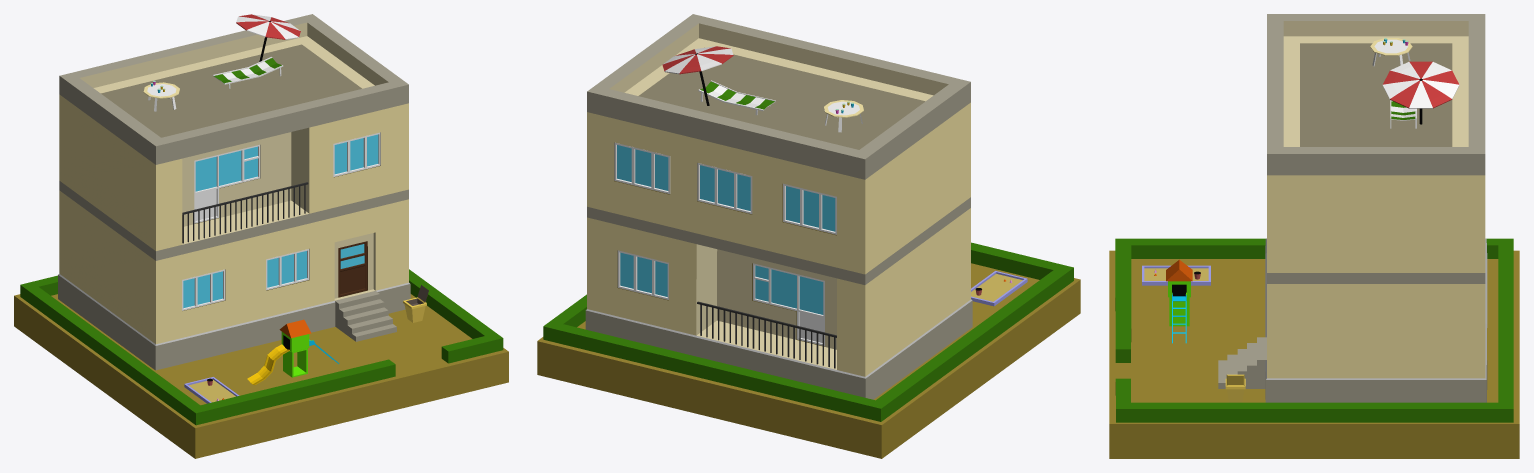
The model's file is House3_1.fbx.
The picture shows the model from 3 angles, left to right: view 1: azimuth 30°, elevation 25°; view 2: azimuth 150°, elevation 25°; view 3: azimuth 270°, elevation 25°; orthographic projection. The views are drawn at different scales.
Parts seen in each view (by area): view 1: Walls3, Ground3, Fence.002, Doors3, Windows3, Playground, Lounge, BalconyRail; view 2: Walls3, Ground3, Fence.002, Windows3, Doors3, Lounge, BalconyRail, Playground; view 3: Walls3, Ground3, Fence.002, Lounge, Playground.
Part boxes in pixels (box(x1,y1,x2,y2)): Walls3: box(58, 14, 410, 370); Ground3: box(14, 294, 508, 458); Fence.002: box(20, 269, 503, 425); Doors3: box(194, 144, 367, 297); Windows3: box(182, 132, 380, 310); Playground: box(184, 319, 339, 403); Lounge: box(143, 14, 300, 111); BalconyRail: box(182, 182, 308, 243); Walls3: box(585, 14, 972, 399); Ground3: box(537, 263, 1080, 458); Fence.002: box(543, 242, 1073, 421); Windows3: box(614, 142, 836, 299); Doors3: box(753, 263, 824, 346); Lounge: box(662, 46, 863, 132); BalconyRail: box(697, 301, 836, 368); Playground: box(971, 271, 1027, 306); Walls3: box(1218, 14, 1487, 402); Ground3: box(1109, 250, 1519, 458); Fence.002: box(1115, 238, 1513, 422); Lounge: box(1370, 38, 1459, 128); Playground: box(1142, 259, 1210, 343).
Size of the model in its own units: 10.67 by 9.34 by 10.67.
